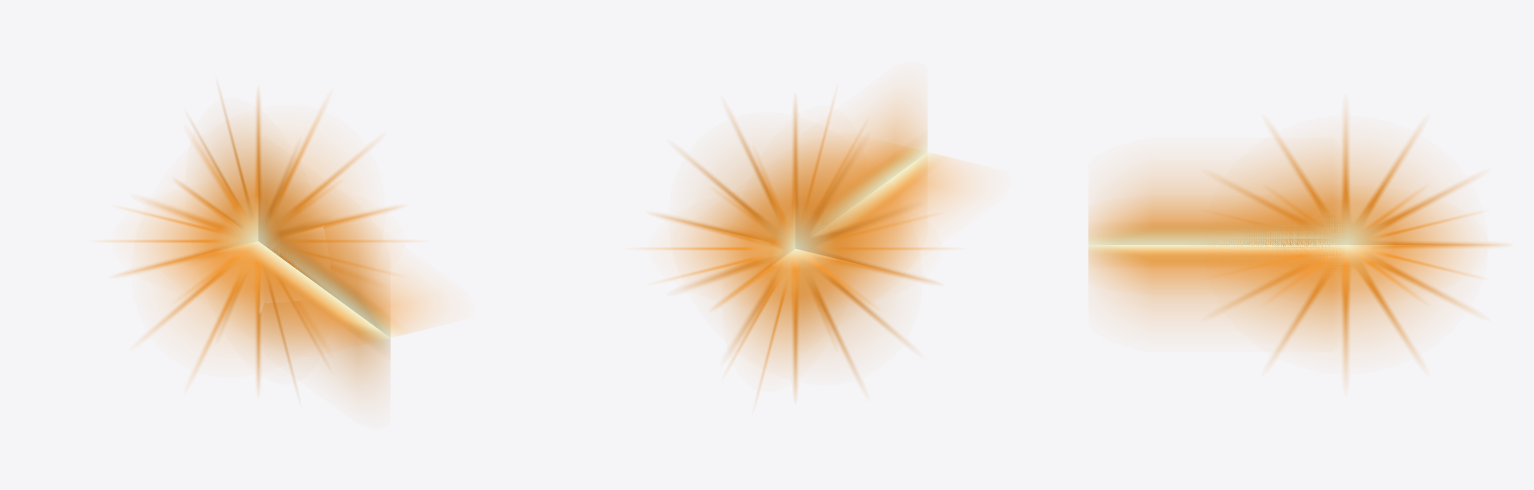
Rendered from fx_beam_asc.glb.
The picture shows the model from 3 angles, left to right: view 1: azimuth 30°, elevation 25°; view 2: azimuth 150°, elevation 25°; view 3: azimuth 270°, elevation 25°; orthographic projection. The views are drawn at different scales.
Parts seen in each view (by area): view 1: fx_beam_star, fx_beam; view 2: fx_beam_star, fx_beam; view 3: fx_beam, fx_beam_star.
Part boxes in pixels (x1,y1,x2,y2): fx_beam_star: (108, 93, 408, 388); fx_beam: (192, 176, 433, 391); fx_beam_star: (645, 101, 945, 396); fx_beam: (799, 98, 970, 264); fx_beam: (1088, 169, 1345, 320); fx_beam_star: (1208, 111, 1503, 378).
Bounding box in the file's own units: 1.35 × 1.35 × 1.68.
2 materials, 2 textured.
